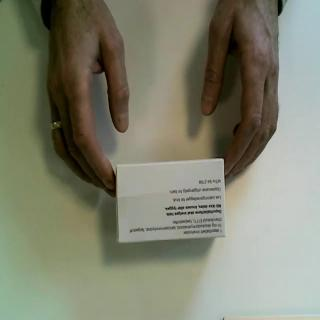oxynorm10mg: (115, 157, 227, 245)
